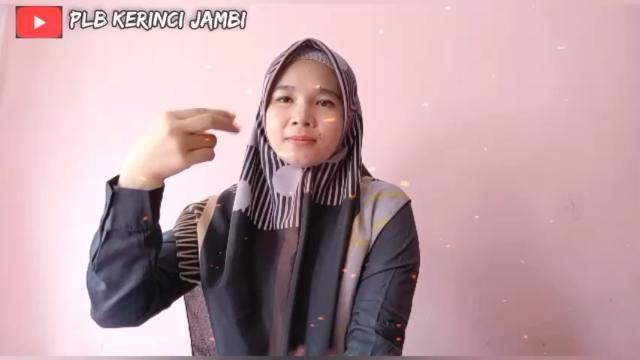H: (126, 106, 242, 174)
